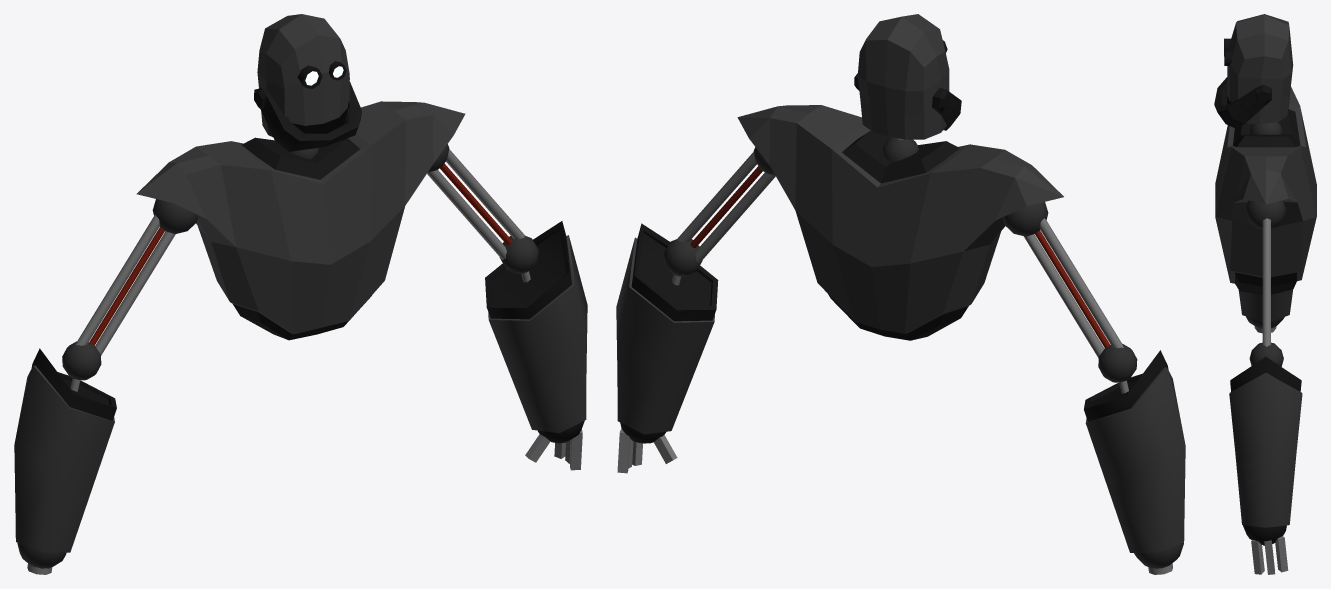
File: Mamoro_PlaceHolder.FBX
3 views of the same model, side by side, from view 1: azimuth 30°, elevation 25°; view 2: azimuth 150°, elevation 25°; view 3: azimuth 270°, elevation 25° (orthographic). The views are drawn at different scales.
Parts seen in each view (by area): view 1: Box001, Cylinder007, Cylinder015, Box007, Box006, Cylinder012, Cylinder013, Cylinder002, Cylinder001, Sphere006, Sphere005, Sphere002 (+3 smaller); view 2: Box001, Cylinder007, Cylinder015, Box007, Cylinder012, Cylinder013, Cylinder002, Cylinder001, Sphere006, Sphere002, Sphere005, Cylinder011 (+2 smaller); view 3: Box001, Cylinder007, Box007, Box006, Cylinder001, Cylinder015, Sphere001, Sphere003, Sphere002, Sphere004, Box004, Box002 (+2 smaller).
Boxes of the visible parts, <box> form: Box001: <box>136,101,465,340</box>; Cylinder007: <box>485,221,587,433</box>; Cylinder015: <box>14,348,116,552</box>; Box007: <box>257,14,349,136</box>; Box006: <box>254,78,361,151</box>; Cylinder012: <box>75,215,159,345</box>; Cylinder013: <box>95,231,175,355</box>; Cylinder002: <box>427,170,506,259</box>; Cylinder001: <box>446,149,525,239</box>; Sphere006: <box>62,341,101,380</box>; Sphere005: <box>152,199,198,233</box>; Sphere002: <box>499,236,538,273</box>; Box001: <box>737,105,1063,340</box>; Cylinder007: <box>616,223,718,434</box>; Cylinder015: <box>1084,350,1185,552</box>; Box007: <box>857,14,949,139</box>; Cylinder012: <box>1039,218,1123,348</box>; Cylinder013: <box>1024,234,1104,357</box>; Cylinder002: <box>695,173,775,262</box>; Cylinder001: <box>677,151,756,242</box>; Sphere006: <box>1098,344,1137,382</box>; Sphere002: <box>663,239,702,276</box>; Sphere005: <box>1003,202,1048,236</box>; Cylinder011: <box>1035,230,1110,347</box>; Box001: <box>1215,87,1316,295</box>; Cylinder007: <box>1229,357,1302,527</box>; Box007: <box>1227,14,1293,124</box>; Box006: <box>1214,77,1271,128</box>; Cylinder001: <box>1262,218,1270,346</box>; Cylinder015: <box>1238,289,1293,322</box>; Sphere001: <box>1245,200,1285,229</box>; Sphere003: <box>1243,525,1286,544</box>; Sphere002: <box>1249,342,1283,366</box>; Sphere004: <box>1249,122,1282,134</box>; Box004: <box>1251,540,1264,574</box>; Box002: <box>1275,536,1288,572</box>.
Bounding box in the file's own units: 471 × 407 × 85.22.
